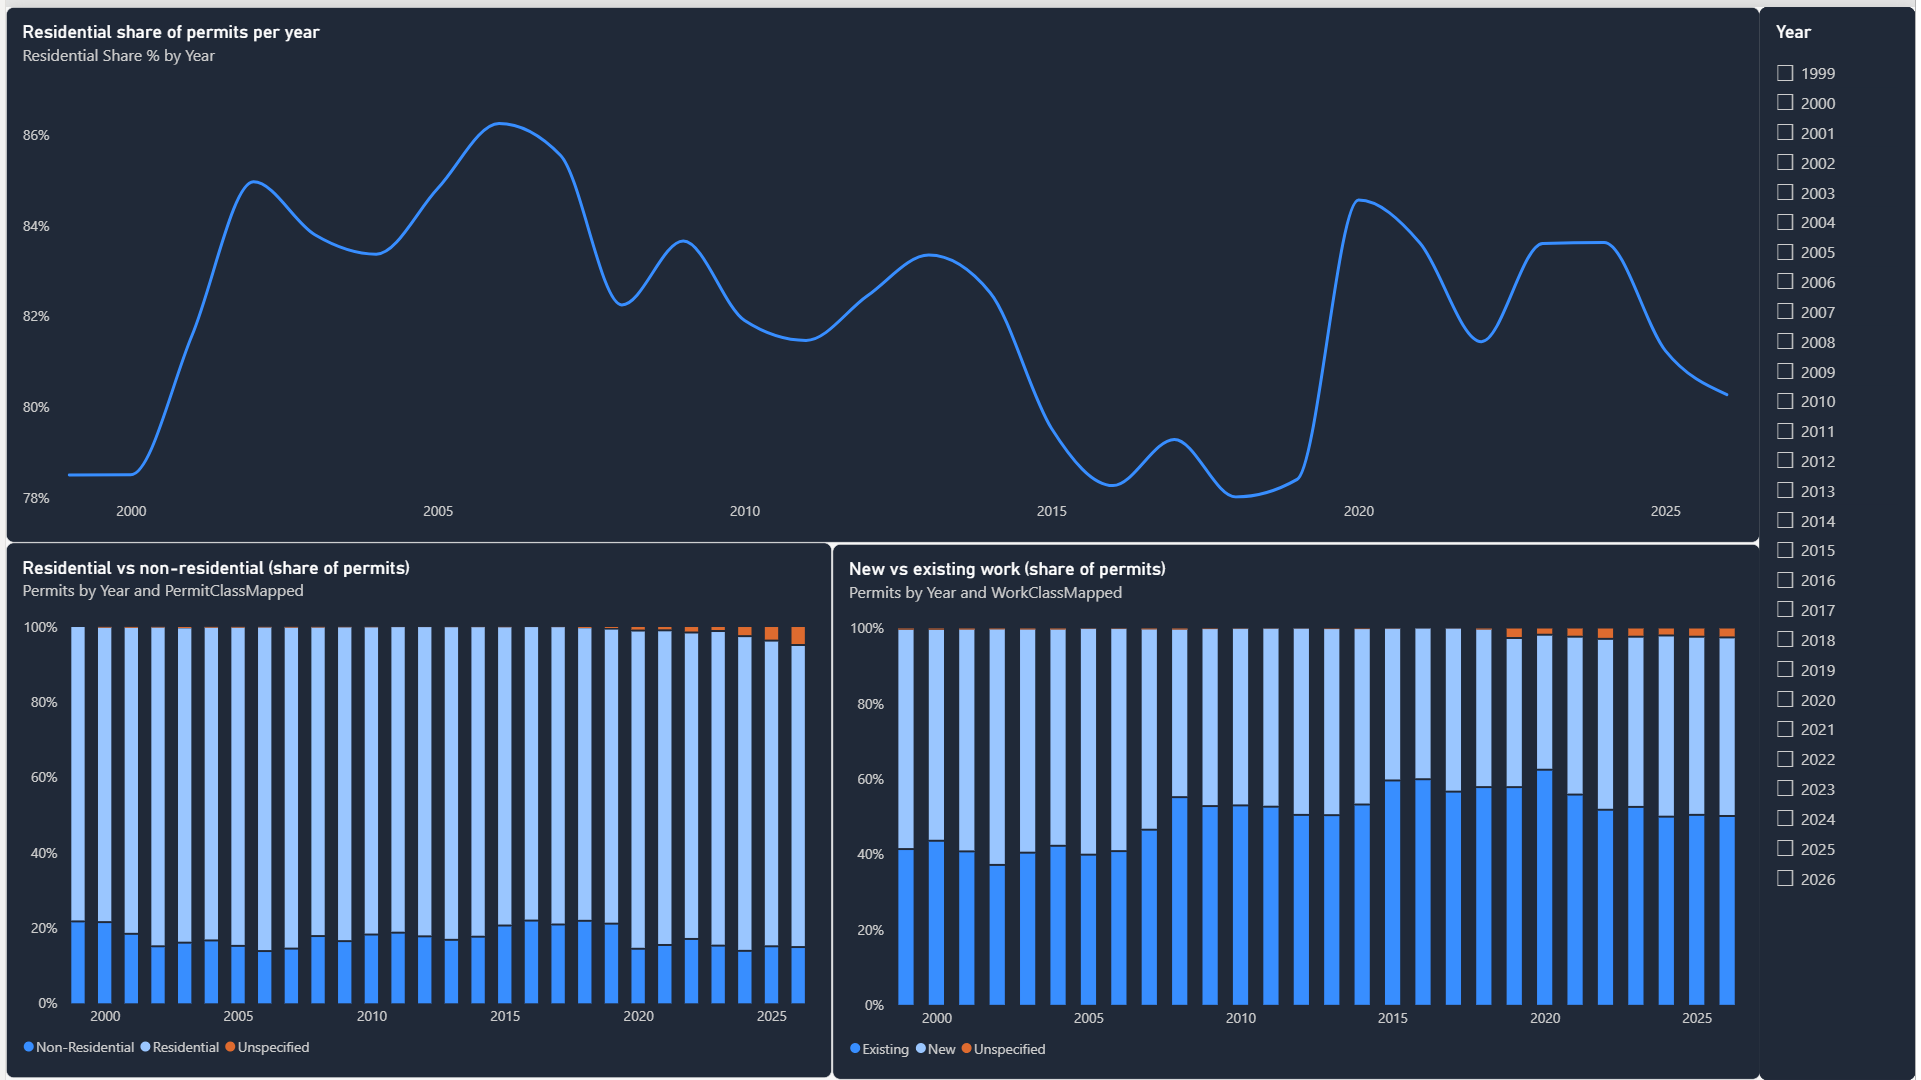

What the dashboard file says about the page in this screenshot:
{"tool":"powerbi","page":{"name":"Mix","canvas":[1920,1080],"ordinal":5},"visuals":[{"type":"lineChart","title":"Residential share of permits per year","fields":{"Category":["Calendar.Year"],"Y":["Permits.Residential Share %"]},"box":[0,0,1764.2,538.8],"z":0},{"type":"hundredPercentStackedColumnChart","title":"New vs existing work (share of permits)","fields":{"Category":["Calendar.Year"],"Series":["Permits.WorkClassMapped"],"Y":["Permits.Permits"]},"box":[830.8,540.5,933.4,538.8],"z":1000},{"type":"hundredPercentStackedColumnChart","title":"Residential vs non-residential (share of permits)","fields":{"Category":["Calendar.Year"],"Series":["Permits.PermitClassMapped"],"Y":["Permits.Permits"]},"box":[0,538.8,830.8,538.8],"z":2000},{"type":"listSlicer","fields":{"Values":["Calendar.Year"]},"box":[1763.6,0.6,156.4,1079.4],"z":3000},{"type":"listSlicer","fields":{"Values":["Calendar.Year"]},"box":[1763.6,0,156.4,1079.4],"z":3001}]}

Visuals, with their boxes in screenshot pixels (x1, y1, x2, y2), scaled from the page's 1920x1080 canvas onto the 1921x1080 screenshot:
"Residential share of permits per year" lineChart: crop(0, 0, 1765, 539)
"New vs existing work (share of permits)" hundredPercentStackedColumnChart: crop(831, 540, 1765, 1079)
"Residential vs non-residential (share of permits)" hundredPercentStackedColumnChart: crop(0, 539, 831, 1078)
listSlicer - Calendar.Year: crop(1765, 1, 1920, 1079)
listSlicer - Calendar.Year: crop(1765, 0, 1920, 1079)
